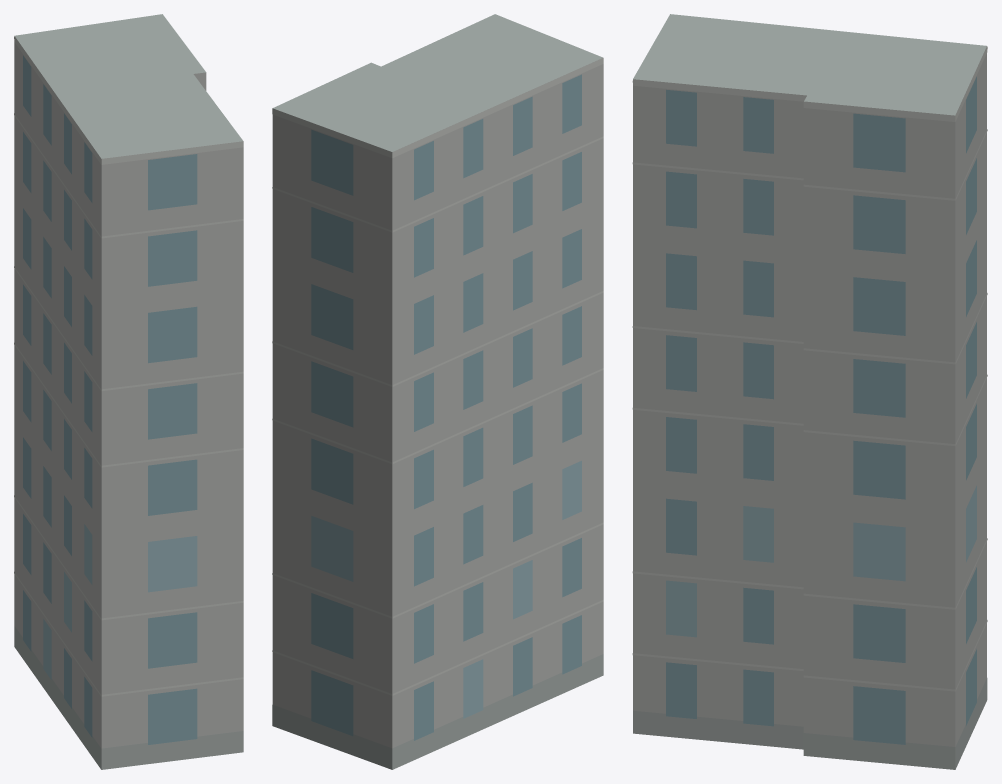
File: survey-upis-32518995.glb
3 renders of one model, left to right at view 1: azimuth 30°, elevation 25°; view 2: azimuth 150°, elevation 25°; view 3: azimuth 270°, elevation 25°, orthographic. The views are drawn at different scales.
Visible parts, largest first — view 1: survey-upis-32518995.tmp; view 2: survey-upis-32518995.tmp; view 3: survey-upis-32518995.tmp.
Boxes of the visible parts, bbox=[...] form: survey-upis-32518995.tmp: bbox=[14, 14, 243, 769]; survey-upis-32518995.tmp: bbox=[272, 14, 603, 769]; survey-upis-32518995.tmp: bbox=[632, 14, 987, 769].
Bounding box in the file's own units: 8.15 × 24.4 × 12.
